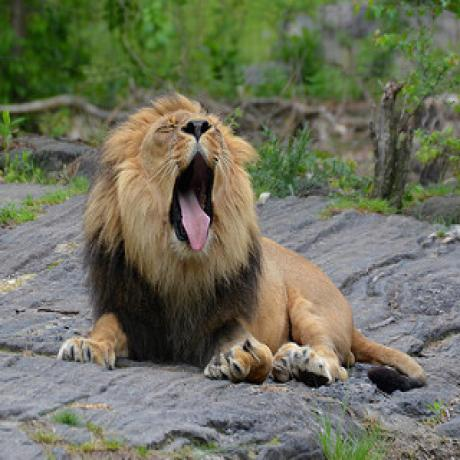Lion: (54, 94, 428, 398)
